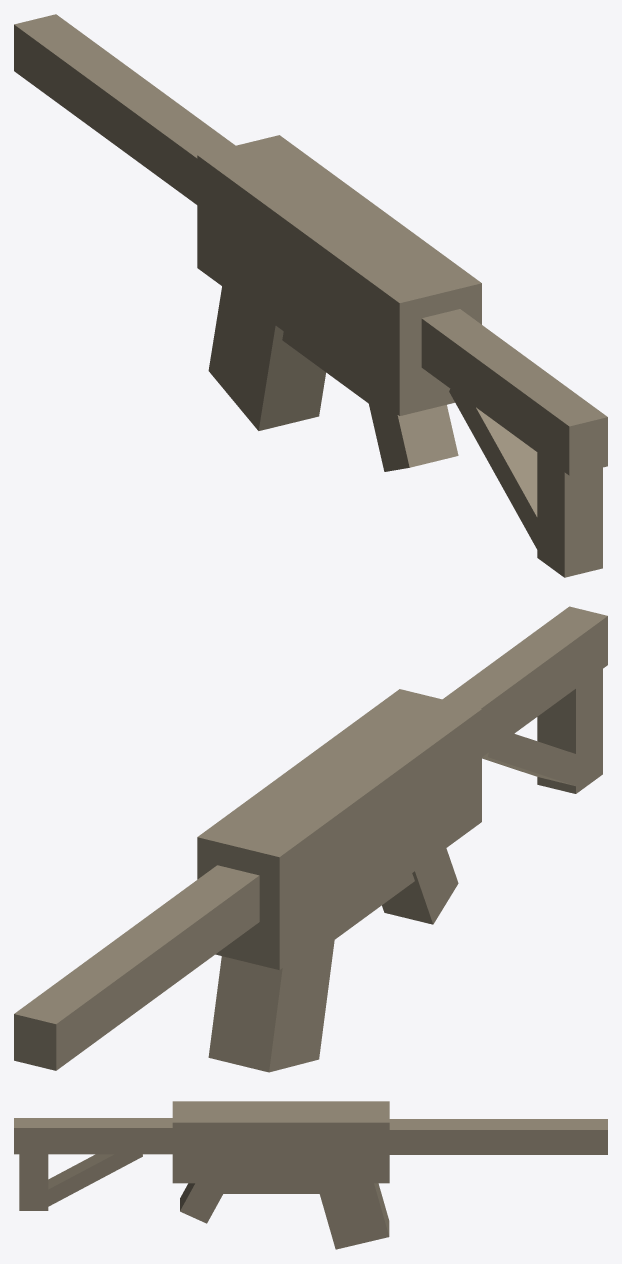
The model's file is Blocky assault rifle.glb.
3 views of the same model, one above another, from view 1: azimuth 30°, elevation 25°; view 2: azimuth 150°, elevation 25°; view 3: azimuth 270°, elevation 25° (orthographic). The views are drawn at different scales.
Parts seen in each view (by area): view 1: Blocky assault rifle; view 2: Blocky assault rifle; view 3: Blocky assault rifle.
Boxes of the visible parts, left/top/right/bottom form: Blocky assault rifle: left=14, top=14, right=607, bottom=577; Blocky assault rifle: left=14, top=606, right=607, bottom=1072; Blocky assault rifle: left=14, top=1101, right=607, bottom=1249.
Bounding box in the file's own units: 0.0647 × 0.1816 × 0.7536.
